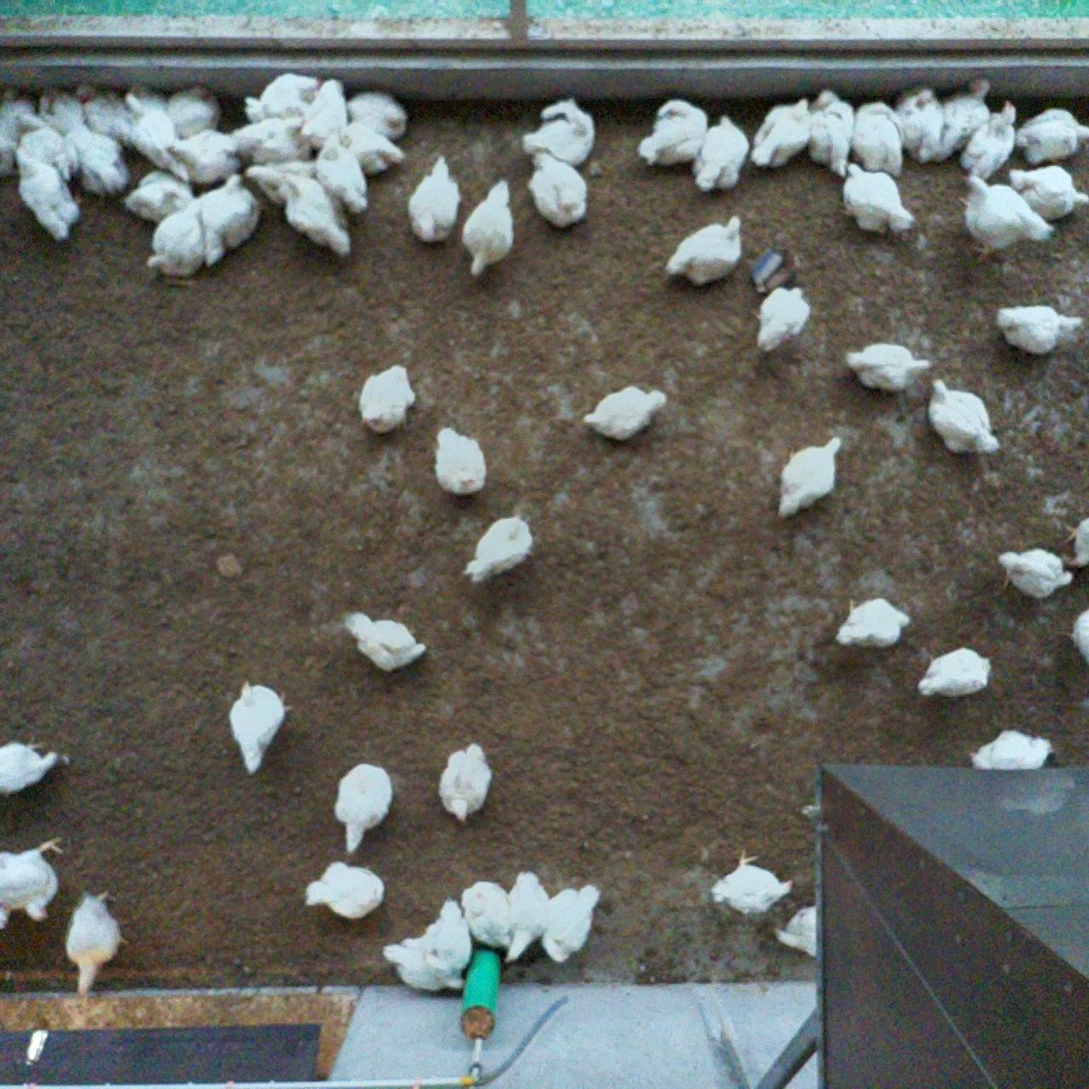chicken: (956, 174, 1055, 262), (919, 376, 1004, 459), (772, 428, 849, 519), (11, 147, 85, 241), (62, 888, 127, 993), (662, 211, 750, 286), (493, 867, 555, 969), (710, 844, 799, 915), (227, 678, 292, 775), (332, 758, 396, 855), (281, 171, 353, 257), (196, 172, 260, 266), (343, 605, 433, 670), (519, 97, 598, 171), (459, 175, 514, 281), (841, 162, 917, 237), (581, 379, 668, 444), (633, 96, 707, 171), (0, 833, 63, 921), (403, 154, 463, 246), (540, 880, 604, 966), (462, 513, 538, 585), (7, 106, 76, 185), (61, 116, 126, 199), (120, 91, 182, 178), (298, 863, 389, 922), (996, 302, 1089, 358), (847, 338, 938, 395), (805, 89, 862, 180), (239, 63, 325, 123), (352, 361, 421, 435), (936, 77, 993, 165), (438, 740, 497, 825), (958, 96, 1018, 179), (162, 125, 241, 188), (527, 151, 589, 231), (145, 197, 205, 278), (917, 638, 995, 700), (418, 899, 471, 990), (746, 98, 810, 172), (313, 131, 368, 217), (425, 426, 491, 497), (832, 592, 916, 647), (972, 726, 1059, 779), (121, 166, 198, 225), (1000, 164, 1089, 215), (848, 97, 906, 175), (1014, 106, 1089, 166), (380, 938, 460, 994), (752, 281, 814, 353), (896, 80, 945, 170), (690, 112, 747, 189), (301, 73, 353, 157), (246, 157, 322, 213), (232, 113, 312, 166), (991, 548, 1076, 597), (0, 736, 62, 802), (458, 880, 517, 948), (68, 82, 131, 145), (340, 122, 406, 175), (0, 79, 36, 176), (771, 902, 823, 964), (176, 80, 224, 144), (346, 91, 408, 139), (27, 85, 83, 131), (1057, 515, 1089, 577), (123, 81, 172, 114), (1065, 603, 1089, 666)
